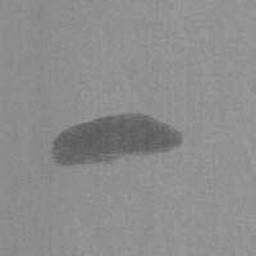Oil spot: (47, 111, 184, 168)
